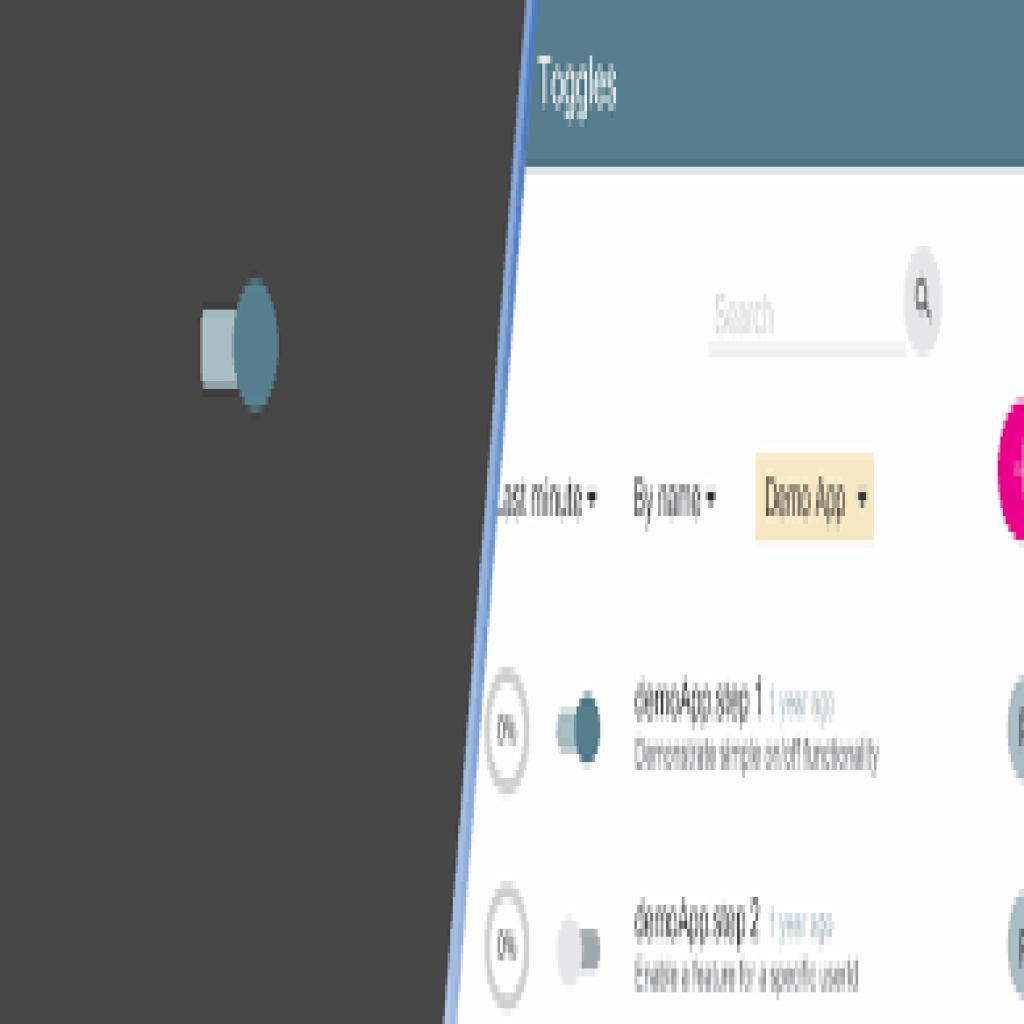dropdown: (758, 451, 876, 543)
icon: (911, 272, 940, 333)
switch: (199, 278, 280, 413), (556, 691, 603, 775), (560, 911, 605, 998)
